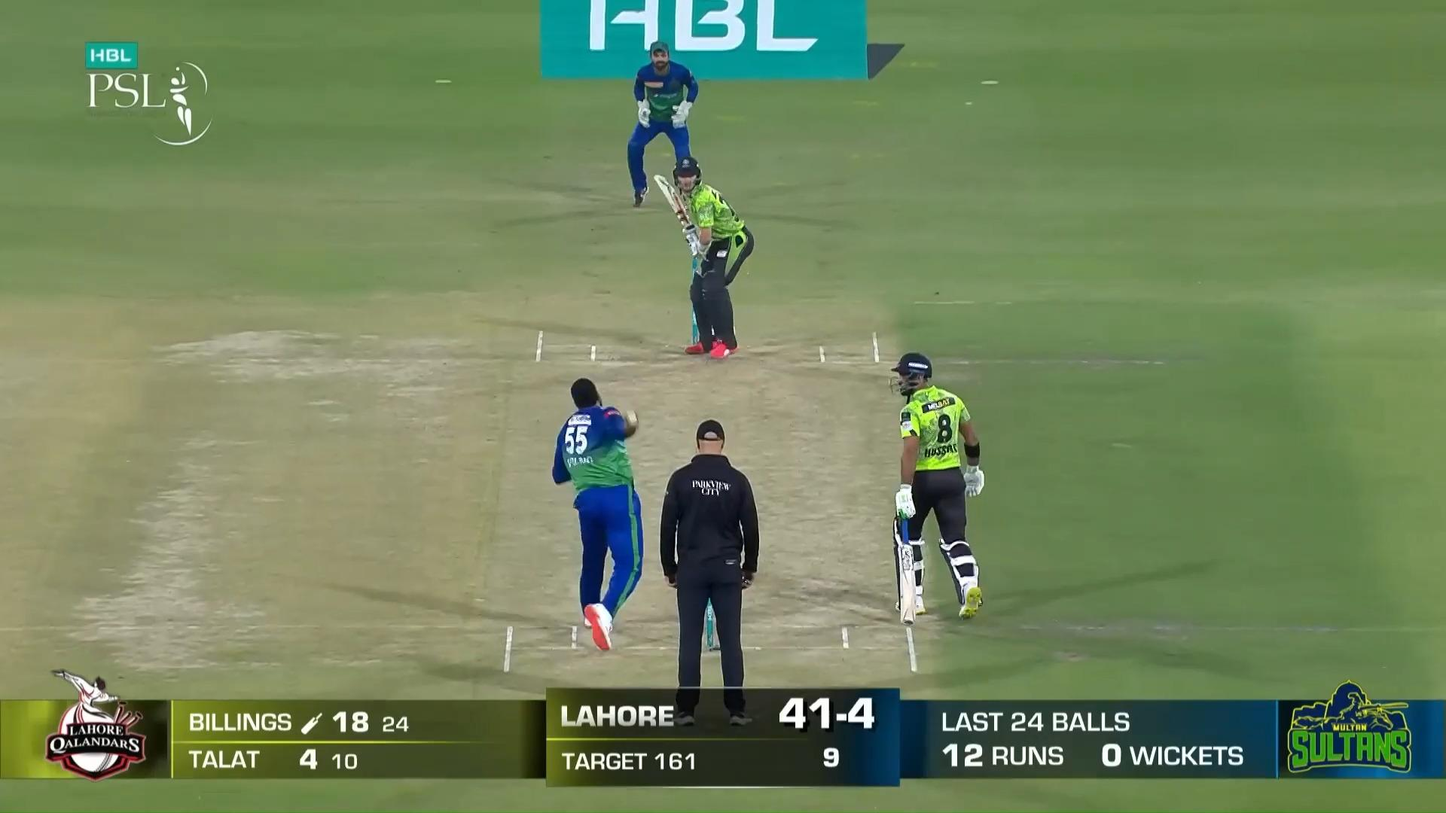batsman: (653, 158, 754, 358)
